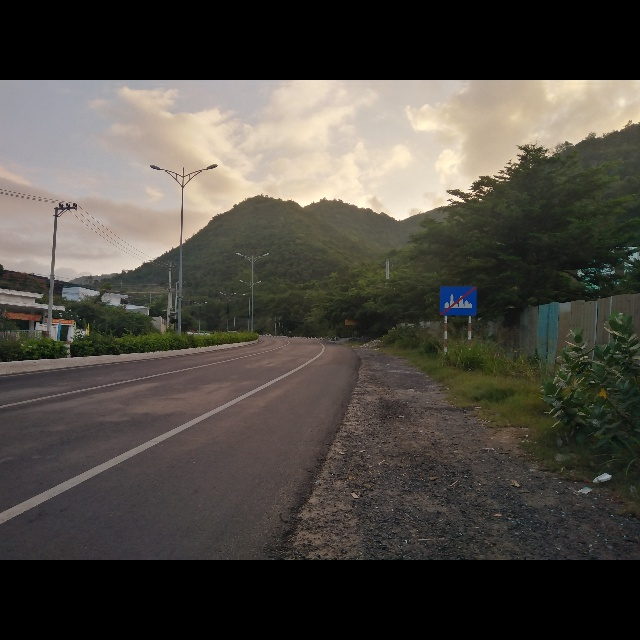Hết khu đông dân cư: (439, 285, 477, 316)
